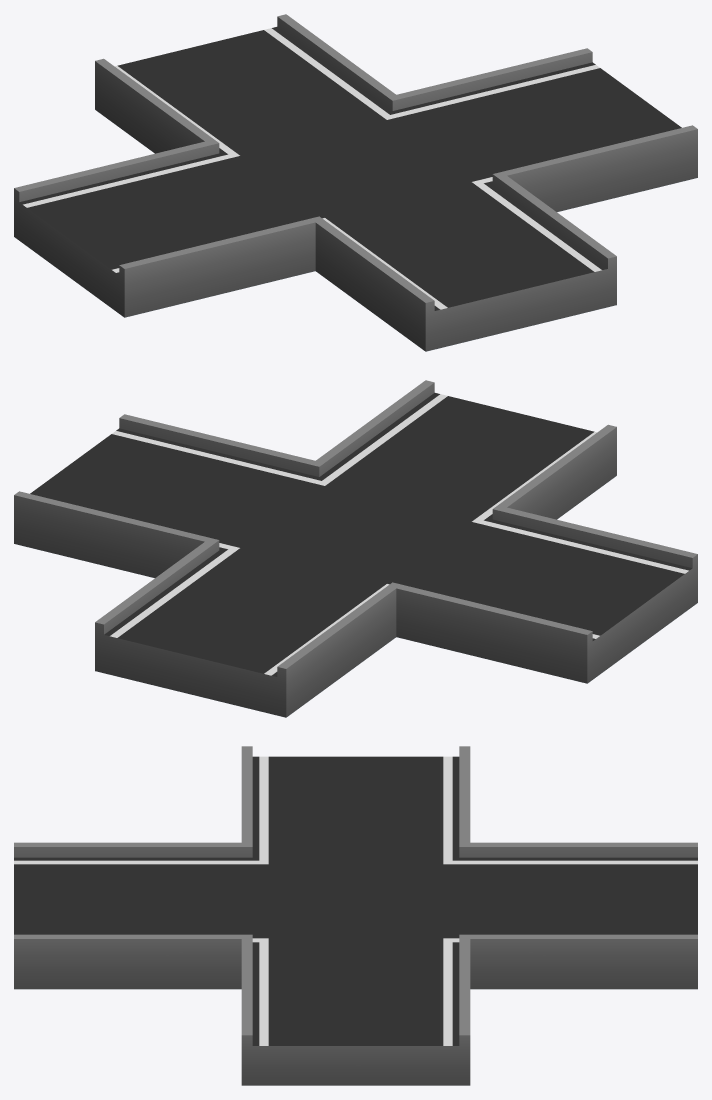
Rendered from Cross_Intersection_Road.fbx.
3 renders of one model, top to bottom at view 1: azimuth 30°, elevation 25°; view 2: azimuth 150°, elevation 25°; view 3: azimuth 270°, elevation 25°, orthographic. The views are drawn at different scales.
Parts seen in each view (by area): view 1: Cross_Intersection_Road; view 2: Cross_Intersection_Road; view 3: Cross_Intersection_Road.
Part boxes in pixels (<box>): Cross_Intersection_Road: <box>14,14,697,351</box>; Cross_Intersection_Road: <box>14,380,697,717</box>; Cross_Intersection_Road: <box>14,746,697,1085</box>.
Size of the model in its own units: 597 by 48.52 by 597.
